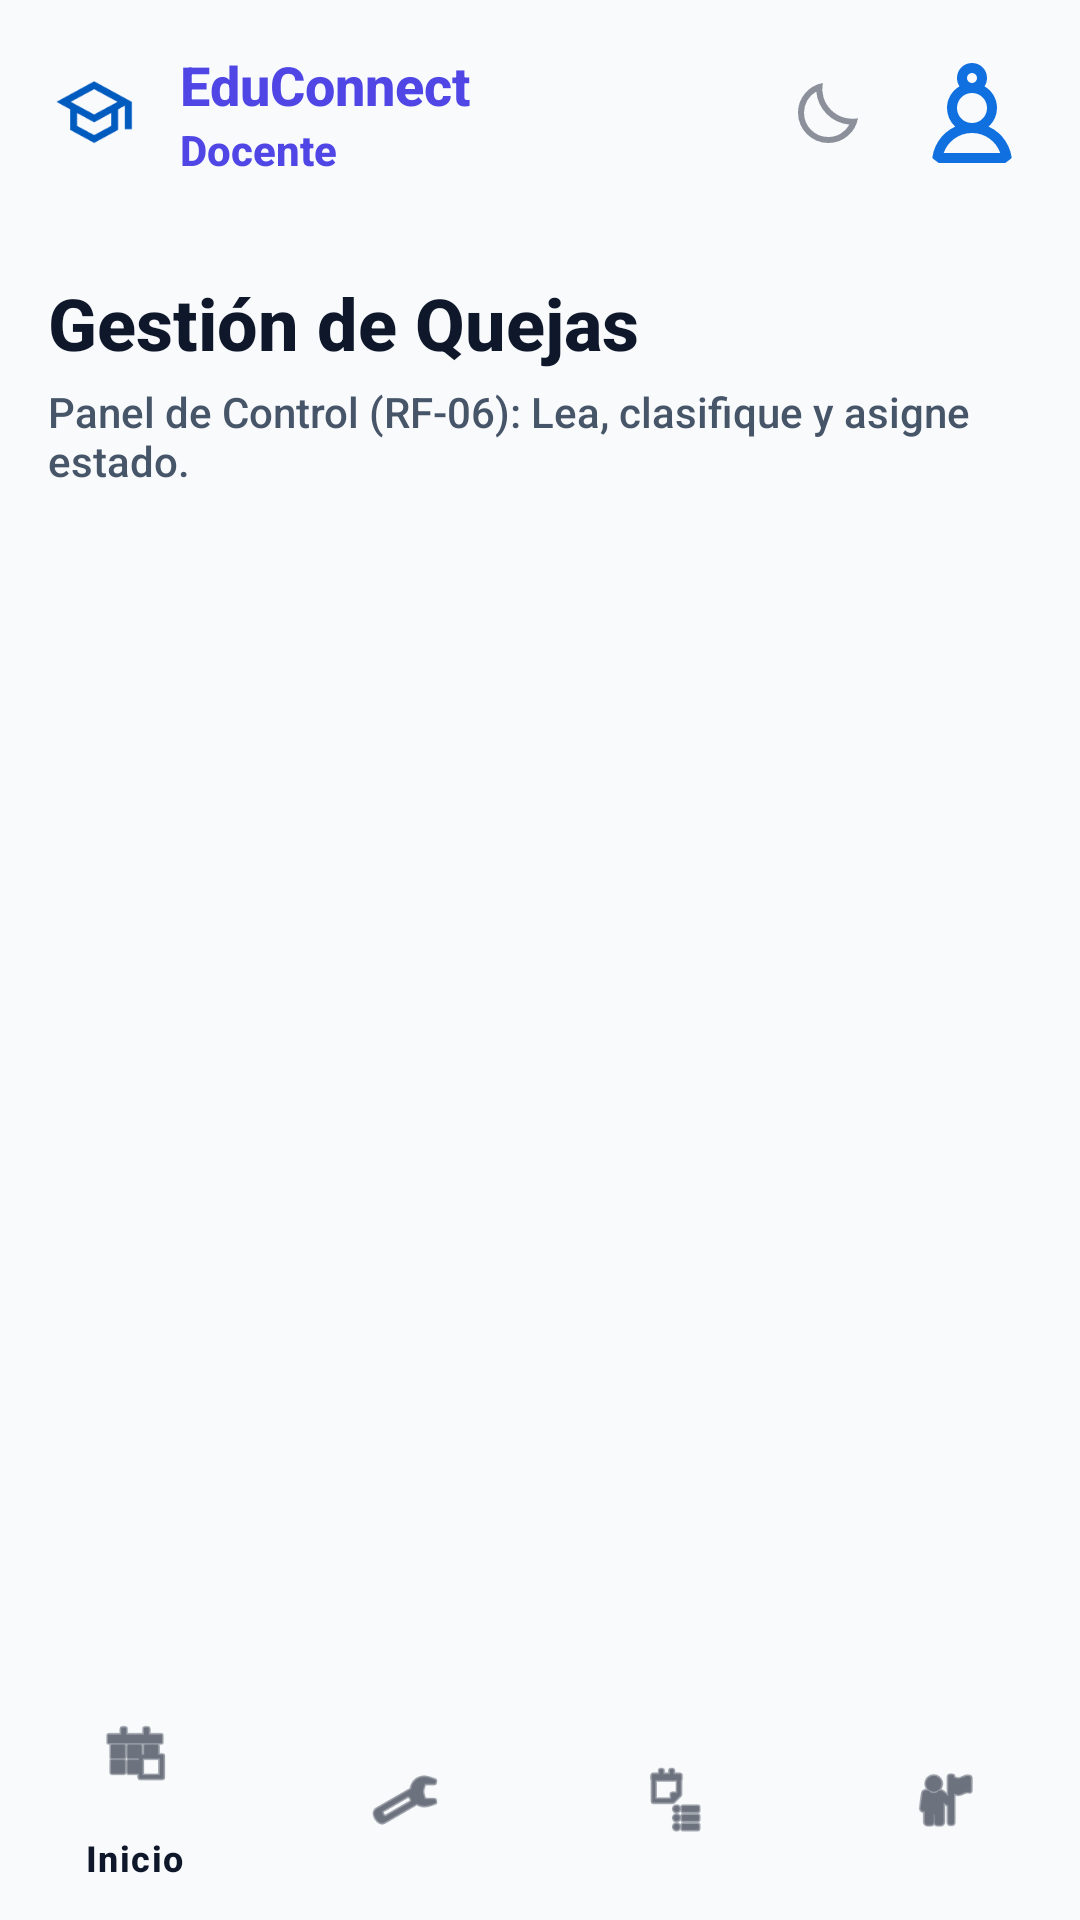

Where to tap for icons on this 1080w x 1920h app screen, as (x,y):
moon: (828,113)
